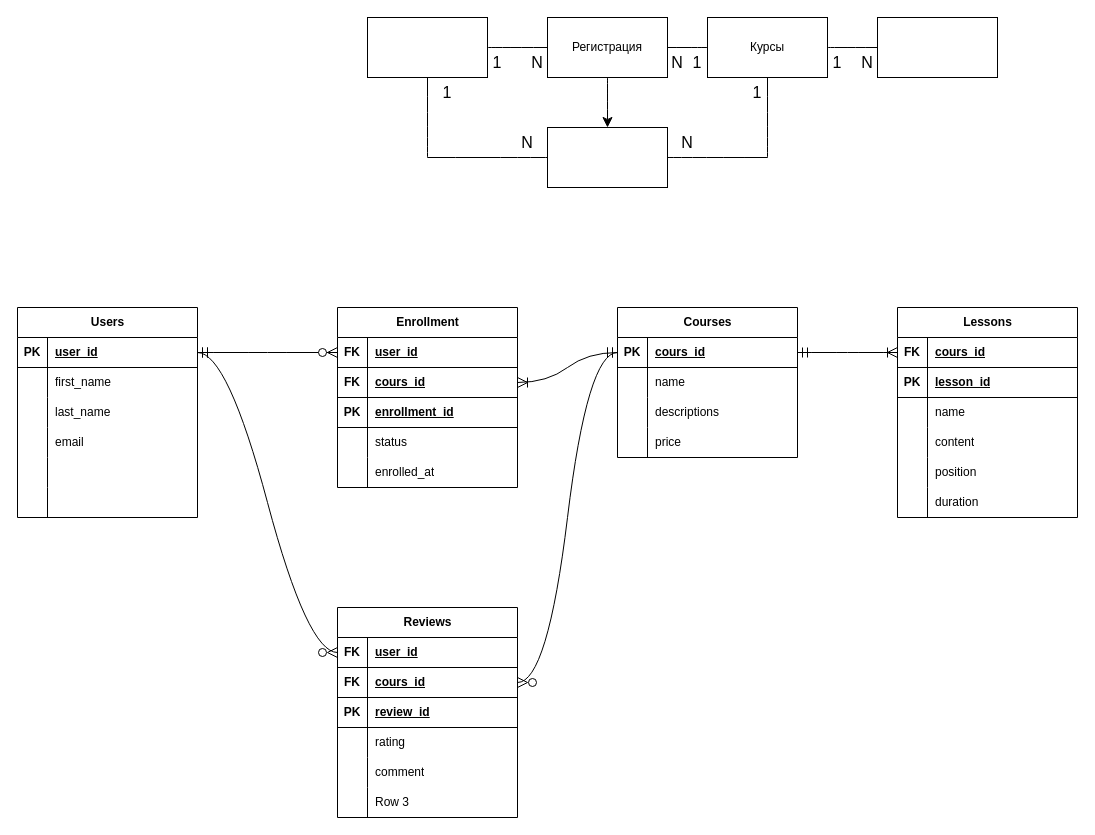
This 1095x835 diagram has some shape labels left out. Here are the shapes that lost their labels. From the top down, the centre of each, then its label:
the point at 427,47: Пользователи
the point at 937,47: Уроки
the point at 607,157: Отзывы
